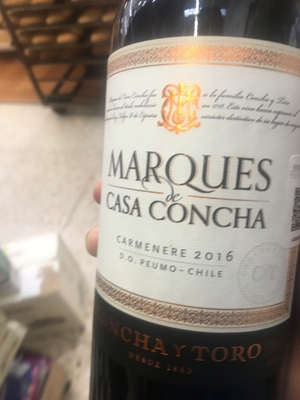marques de casa concha carmenere: (86, 9, 300, 387)
